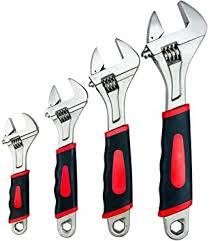wrench: (140, 0, 207, 240), (87, 36, 140, 237), (43, 75, 89, 237), (0, 110, 39, 235)
